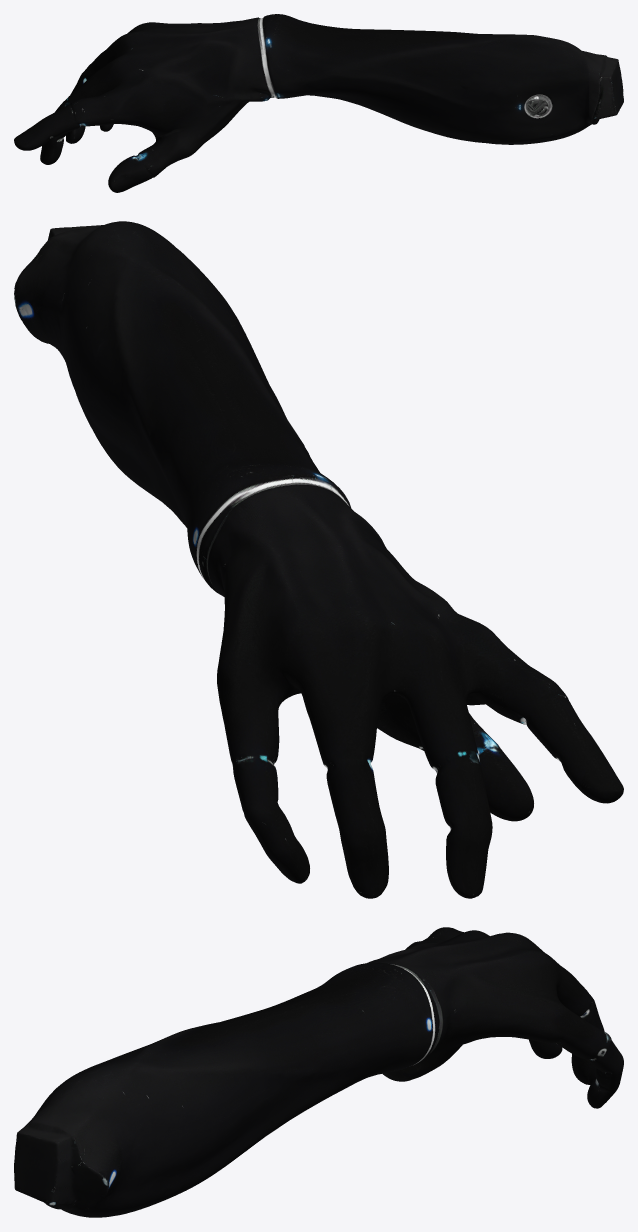
The model's file is arm.glb.
3 views of the same model, one above another, from view 1: azimuth 30°, elevation 25°; view 2: azimuth 150°, elevation 25°; view 3: azimuth 270°, elevation 25° (orthographic). The views are drawn at different scales.
Visible parts, largest first — view 1: Mesh_0; view 2: Mesh_0; view 3: Mesh_0.
Part boxes in pixels (left/top/right/bottom): Mesh_0: left=14, top=14, right=623, bottom=192; Mesh_0: left=14, top=221, right=623, bottom=898; Mesh_0: left=14, top=927, right=623, bottom=1217.
Bounding box in the file's own units: 1.91 × 0.6219 × 1.55.
Materials: 1 (1 with a texture image).
